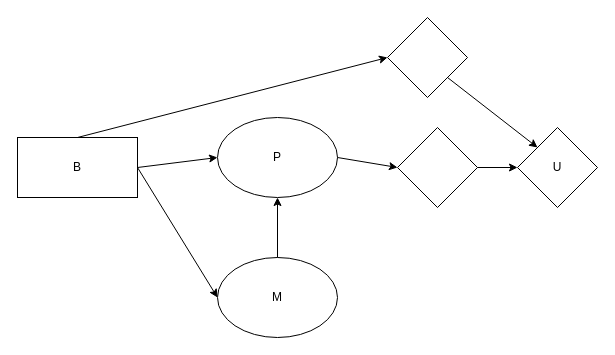
The diagram is 615 pixels wide and 355 high, and some of its shapes have lost their labels. Here are the shapes that lost their labels. From the top down, the box of each, then its label:
(386, 16, 468, 98): U 1
(396, 126, 478, 208): U 2
